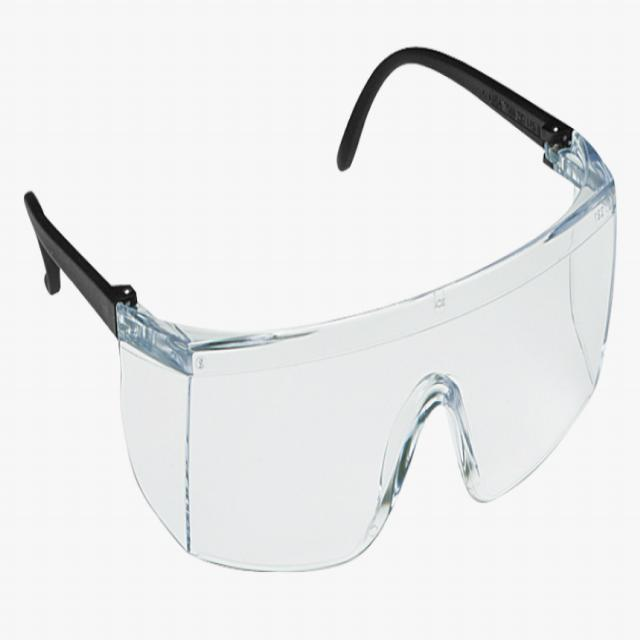Protective Glasses: (4, 13, 639, 610)
